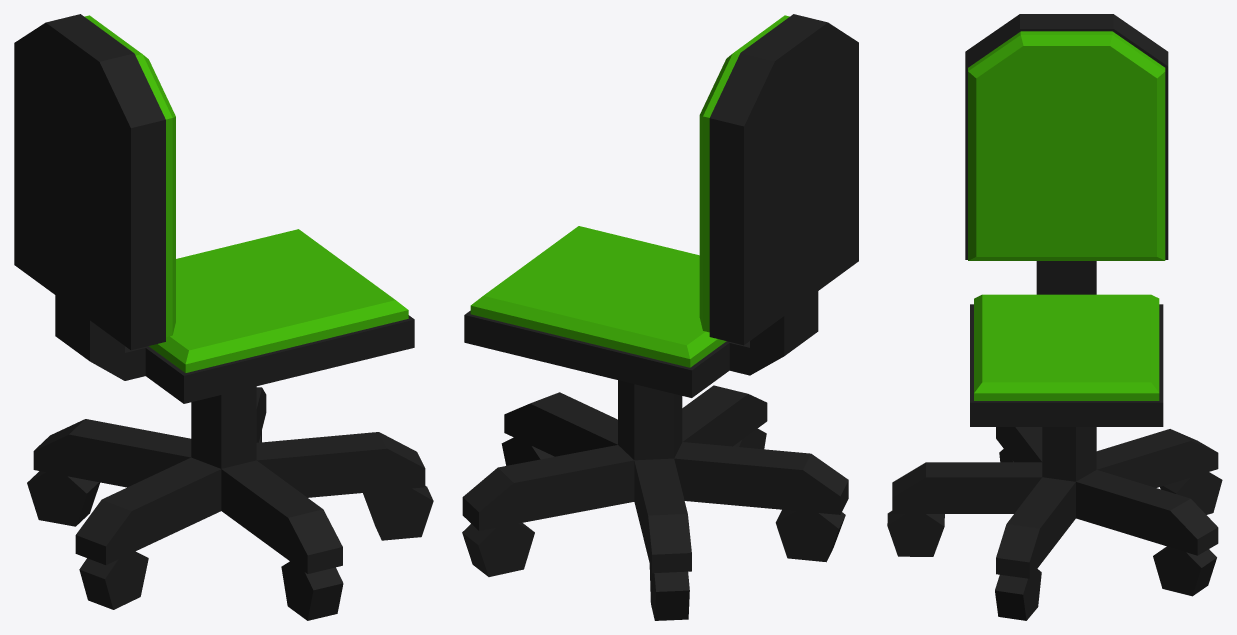
File: ChairGreen.fbx
3 renders of one model, left to right at view 1: azimuth 30°, elevation 25°; view 2: azimuth 150°, elevation 25°; view 3: azimuth 270°, elevation 25°, orthographic. The views are drawn at different scales.
Parts seen in each view (by area): view 1: Chair, Base, Cylinder.004, Cylinder, Cylinder.003, Cylinder.002; view 2: Chair, Base, Cylinder.001, Cylinder.003, Cylinder.004, Cylinder; view 3: Chair, Base, Cylinder.001, Cylinder.002, Cylinder, Cylinder.004.
Part boxes in pixels (<box>): Chair: <box>14,14,414,403</box>; Base: <box>33,386,425,573</box>; Cylinder.004: <box>27,471,100,526</box>; Cylinder: <box>363,486,433,540</box>; Cylinder.003: <box>79,551,148,609</box>; Cylinder.002: <box>281,561,343,620</box>; Chair: <box>464,14,858,397</box>; Base: <box>462,380,848,573</box>; Cylinder.001: <box>462,523,534,576</box>; Cylinder.003: <box>775,509,845,562</box>; Cylinder.004: <box>649,564,689,620</box>; Cylinder: <box>501,437,554,465</box>; Chair: <box>965,14,1168,426</box>; Base: <box>892,427,1218,578</box>; Cylinder.001: <box>1153,546,1216,596</box>; Cylinder.002: <box>887,511,944,556</box>; Cylinder: <box>995,569,1041,620</box>; Cylinder.004: <box>1160,472,1222,514</box>.
Bounding box in the file's own units: 1162 × 1731 × 1115.
